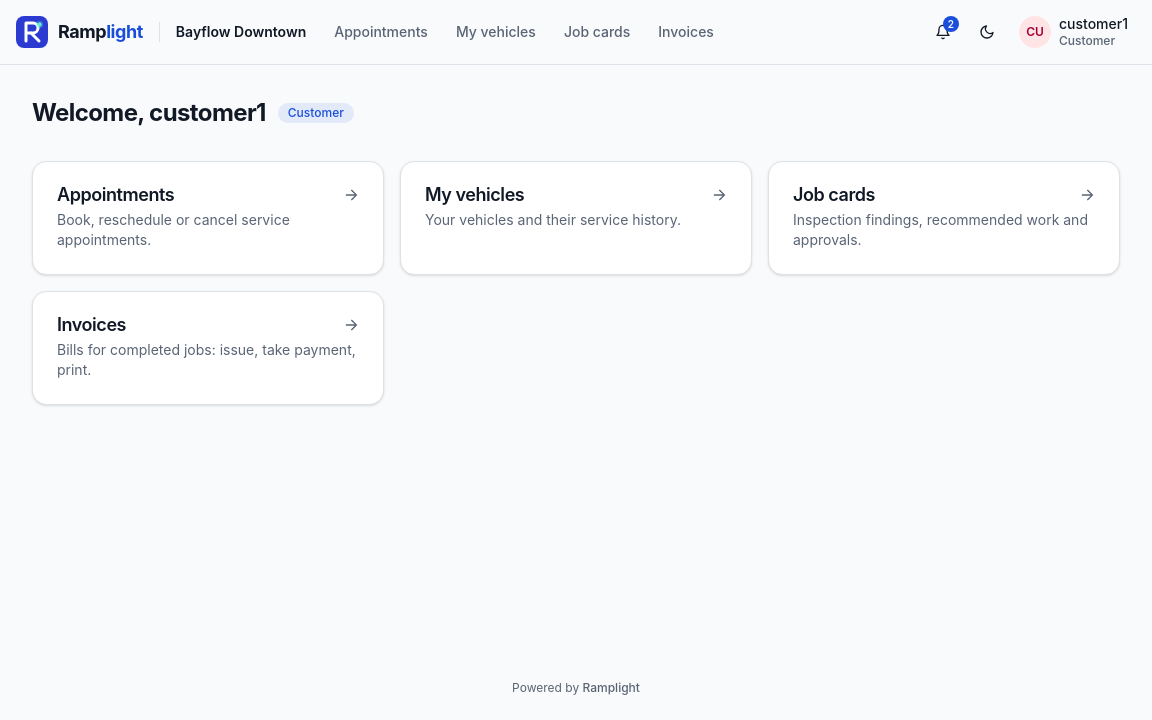
Test: the notification bell › opening one goes to it and removes it for good
Click the button named "Notifications, 2 unread": click(943, 32) [923, 12, 963, 52]
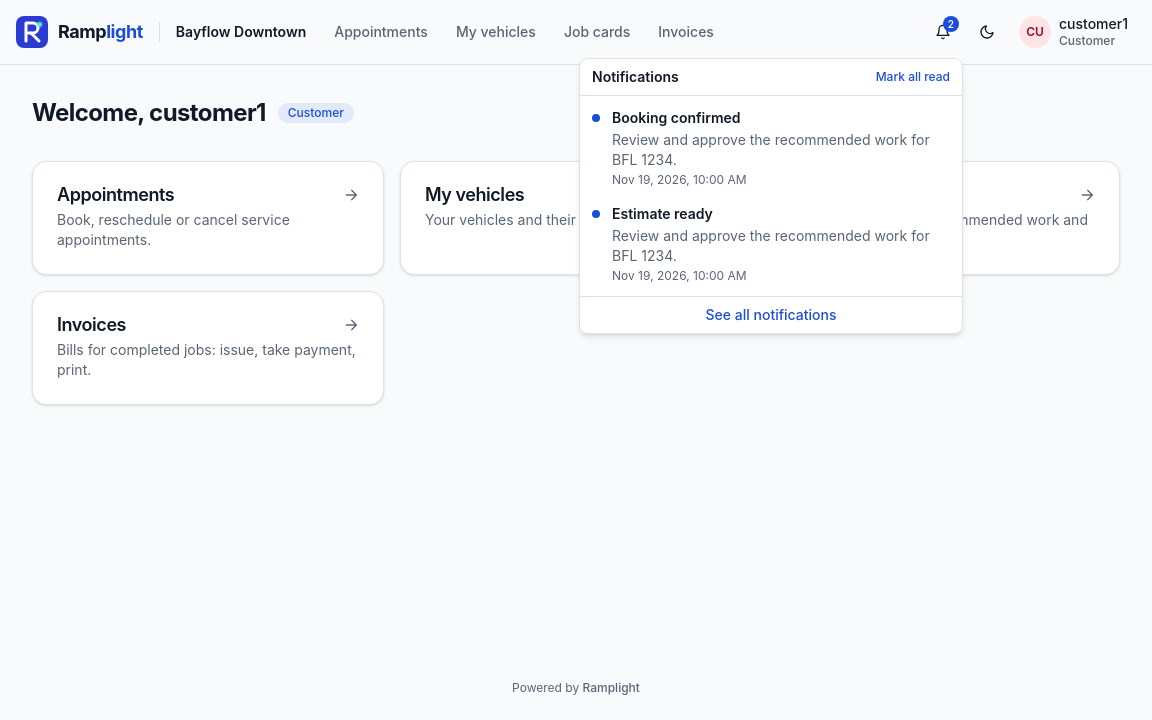
Now the number of menu items with test id "notification-item" is 2
Click the menu item with test id "notification-item": click(771, 148) [584, 100, 958, 196]
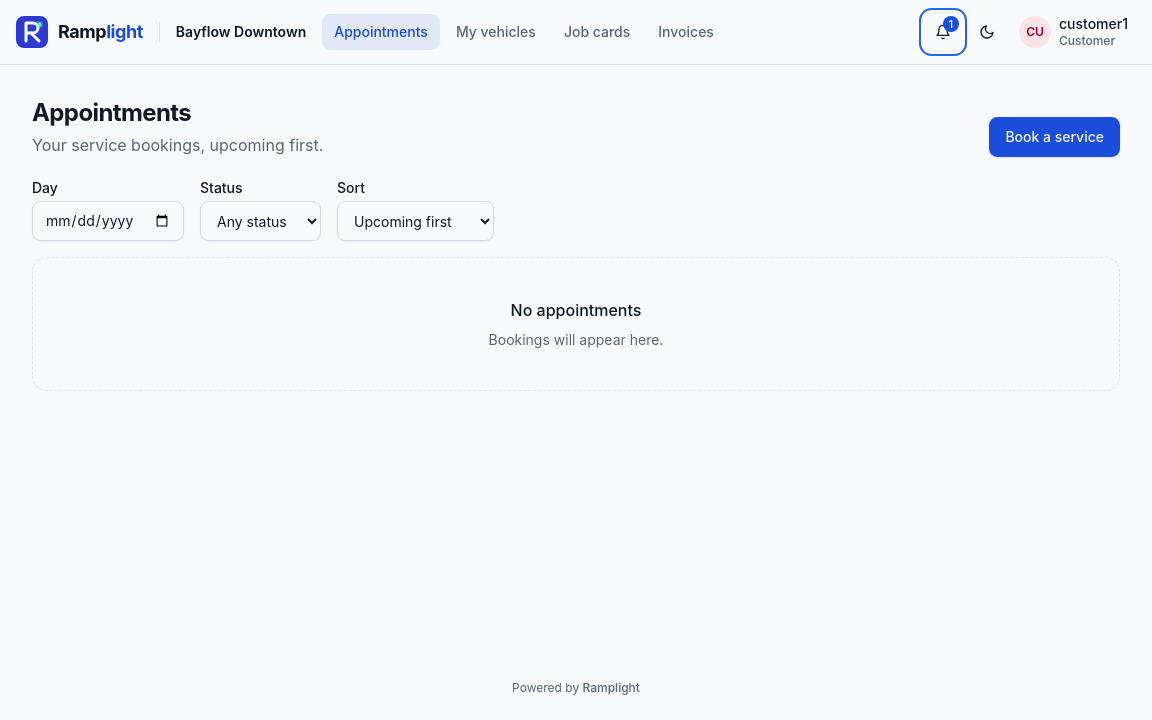
// Opened again: the one just read is gone, the other is still there.
Click the button named "Notifications, 1 unread": click(943, 32) [923, 12, 963, 52]
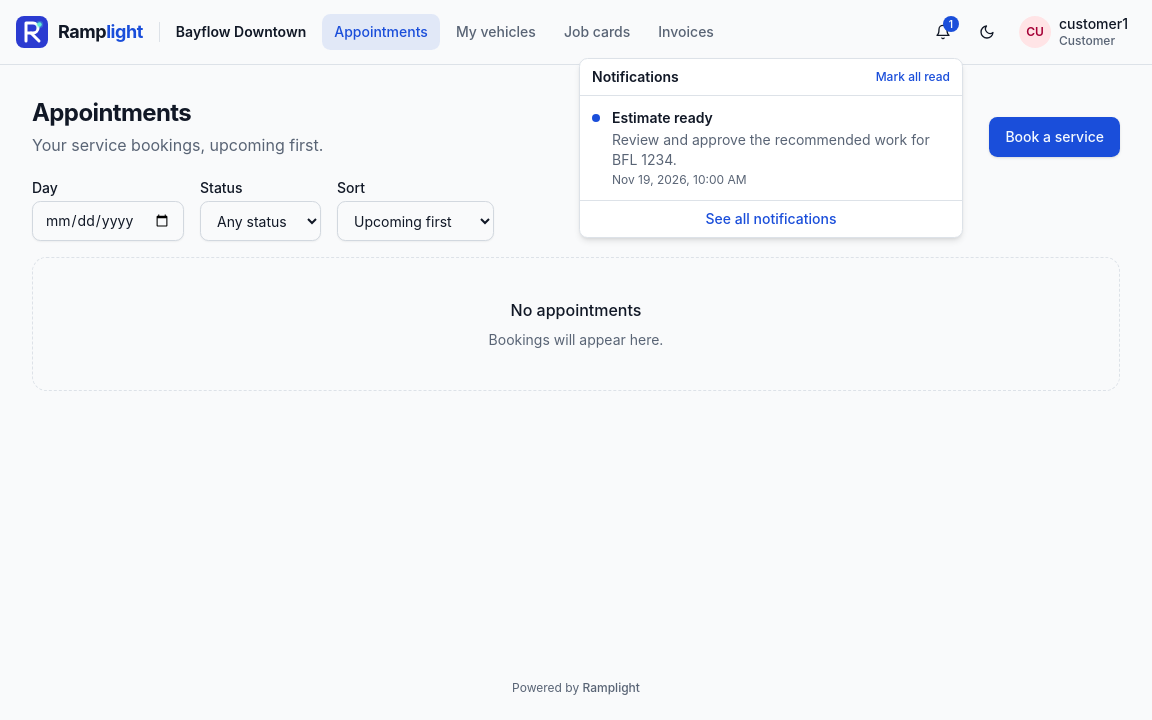
Now the number of menu items with test id "notification-item" is 1, box [584, 100, 958, 196]
Now the menu item with test id "notification-item" shows "Estimate ready", box [584, 100, 958, 196]
